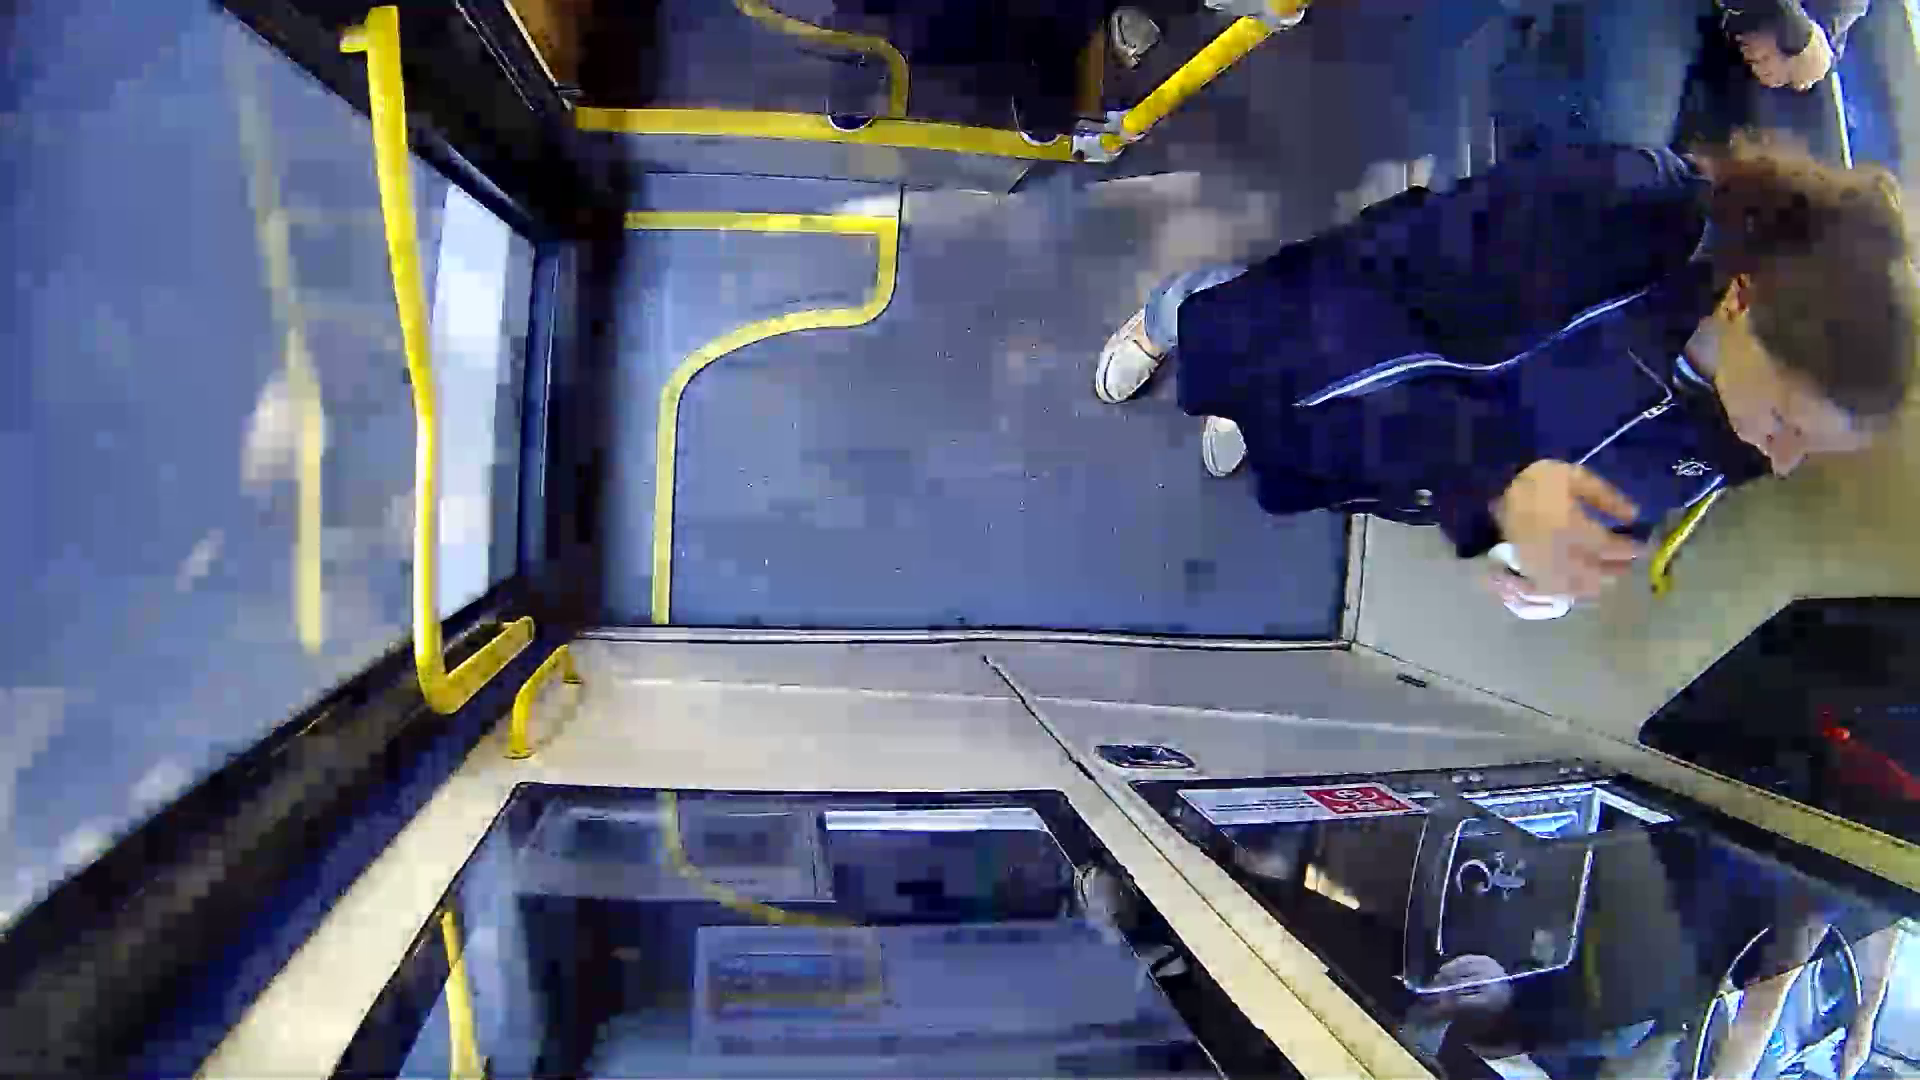person: (1143, 76, 1889, 645)
